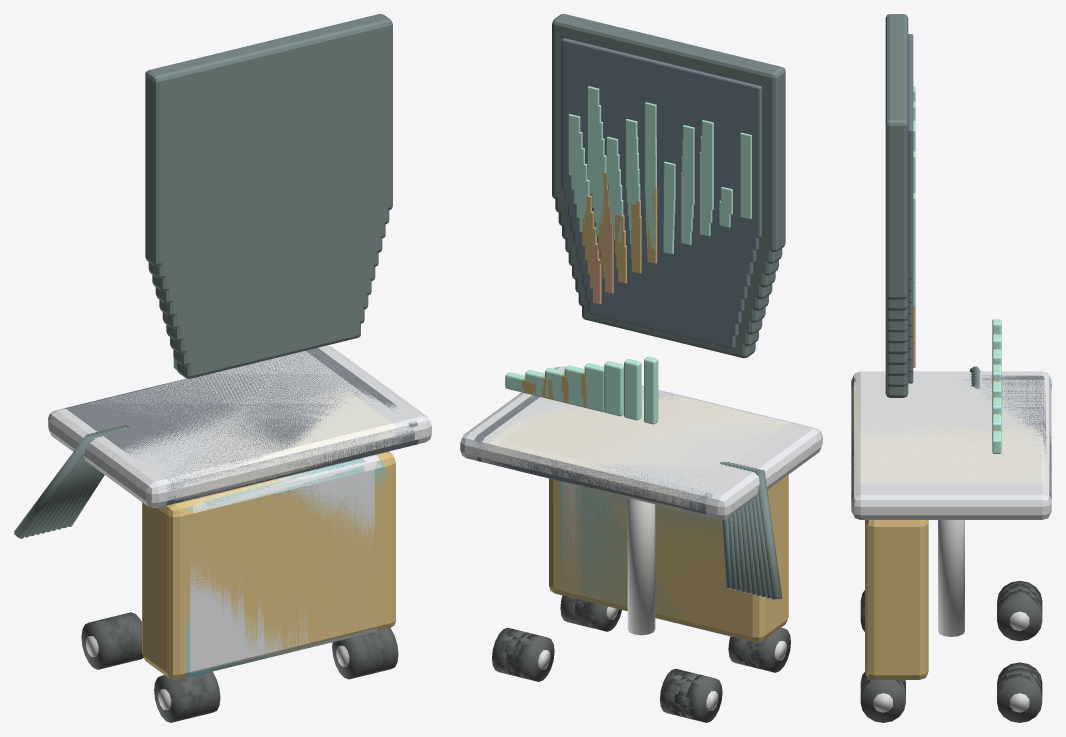
File: Gear17.fbx
The picture shows the model from 3 angles, left to right: view 1: azimuth 30°, elevation 25°; view 2: azimuth 150°, elevation 25°; view 3: azimuth 270°, elevation 25°; orthographic projection. The views are drawn at different scales.
Parts seen in each view (by area): view 1: Gear17_V10_Ink, Gear17_V10_Gold, Gear17_V1_Ink, Gear17_V8_Graphite, Gear17_V2_Ink, Gear17_V10_Platinum, Gear17_V5_Platinum, Gear17_V9_Ink, Gear17_V4_Ink, Gear17_V8_Ink, Gear17_V6_Ink, Gear17_V5_Ink (+18 smaller); view 2: Gear17_V10_Glass, Gear17_V10_Gold, Gear17_V10_Ink, Gear17_V9_Gold, Gear17_V10_Platinum, Gear17_V1_Ivory, Gear17_V5_Glass, Gear17_V10_Glow, Gear17_V1_Sage, Gear17_V9_Glass, Gear17_V5_Platinum, Gear17_V4_Linen (+42 smaller); view 3: Gear17_V10_Platinum, Gear17_V10_Gold, Gear17_V3_Linen, Gear17_V9_Platinum, Gear17_V10_Ink, Gear17_V4_Linen, Gear17_V1_Chrome, Gear17_V1_Ivory, Gear17_V10_Tyre, Gear17_V6_Platinum, Gear17_V7_Graphite, Gear17_V1_Tyre (+7 smaller).
Boxes of the visible parts, bbox=[...] form: Gear17_V10_Ink: bbox=[14, 14, 392, 538]; Gear17_V10_Gold: bbox=[142, 451, 395, 679]; Gear17_V1_Ink: bbox=[67, 206, 360, 526]; Gear17_V8_Graphite: bbox=[63, 348, 418, 505]; Gear17_V2_Ink: bbox=[62, 184, 364, 528]; Gear17_V10_Platinum: bbox=[48, 345, 431, 507]; Gear17_V5_Platinum: bbox=[90, 351, 404, 661]; Gear17_V9_Ink: bbox=[24, 46, 389, 537]; Gear17_V4_Ink: bbox=[51, 147, 371, 530]; Gear17_V8_Ink: bbox=[30, 68, 385, 536]; Gear17_V6_Ink: bbox=[40, 105, 378, 533]; Gear17_V5_Ink: bbox=[46, 130, 375, 532]; Gear17_V10_Glass: bbox=[562, 38, 761, 237]; Gear17_V10_Gold: bbox=[549, 475, 788, 642]; Gear17_V10_Ink: bbox=[552, 14, 785, 599]; Gear17_V9_Gold: bbox=[556, 481, 750, 640]; Gear17_V10_Platinum: bbox=[460, 366, 822, 519]; Gear17_V1_Ivory: bbox=[501, 387, 771, 510]; Gear17_V5_Glass: bbox=[576, 133, 747, 299]; Gear17_V10_Glow: bbox=[505, 86, 751, 423]; Gear17_V1_Sage: bbox=[581, 486, 724, 634]; Gear17_V9_Glass: bbox=[565, 62, 758, 250]; Gear17_V5_Platinum: bbox=[485, 405, 794, 637]; Gear17_V4_Linen: bbox=[489, 394, 789, 502]; Gear17_V10_Platinum: bbox=[851, 371, 1051, 519]; Gear17_V10_Gold: bbox=[865, 520, 928, 679]; Gear17_V3_Linen: bbox=[851, 386, 1051, 481]; Gear17_V9_Platinum: bbox=[853, 374, 1051, 499]; Gear17_V10_Ink: bbox=[885, 14, 980, 371]; Gear17_V4_Linen: bbox=[851, 385, 1051, 484]; Gear17_V1_Chrome: bbox=[938, 520, 1029, 636]; Gear17_V1_Ivory: bbox=[853, 390, 1045, 477]; Gear17_V10_Tyre: bbox=[860, 580, 1042, 722]; Gear17_V6_Platinum: bbox=[851, 379, 1051, 494]; Gear17_V7_Graphite: bbox=[851, 377, 1051, 496]; Gear17_V1_Tyre: bbox=[860, 596, 1042, 687].
Size of the model in its own units: 78.62 by 147 by 44.
